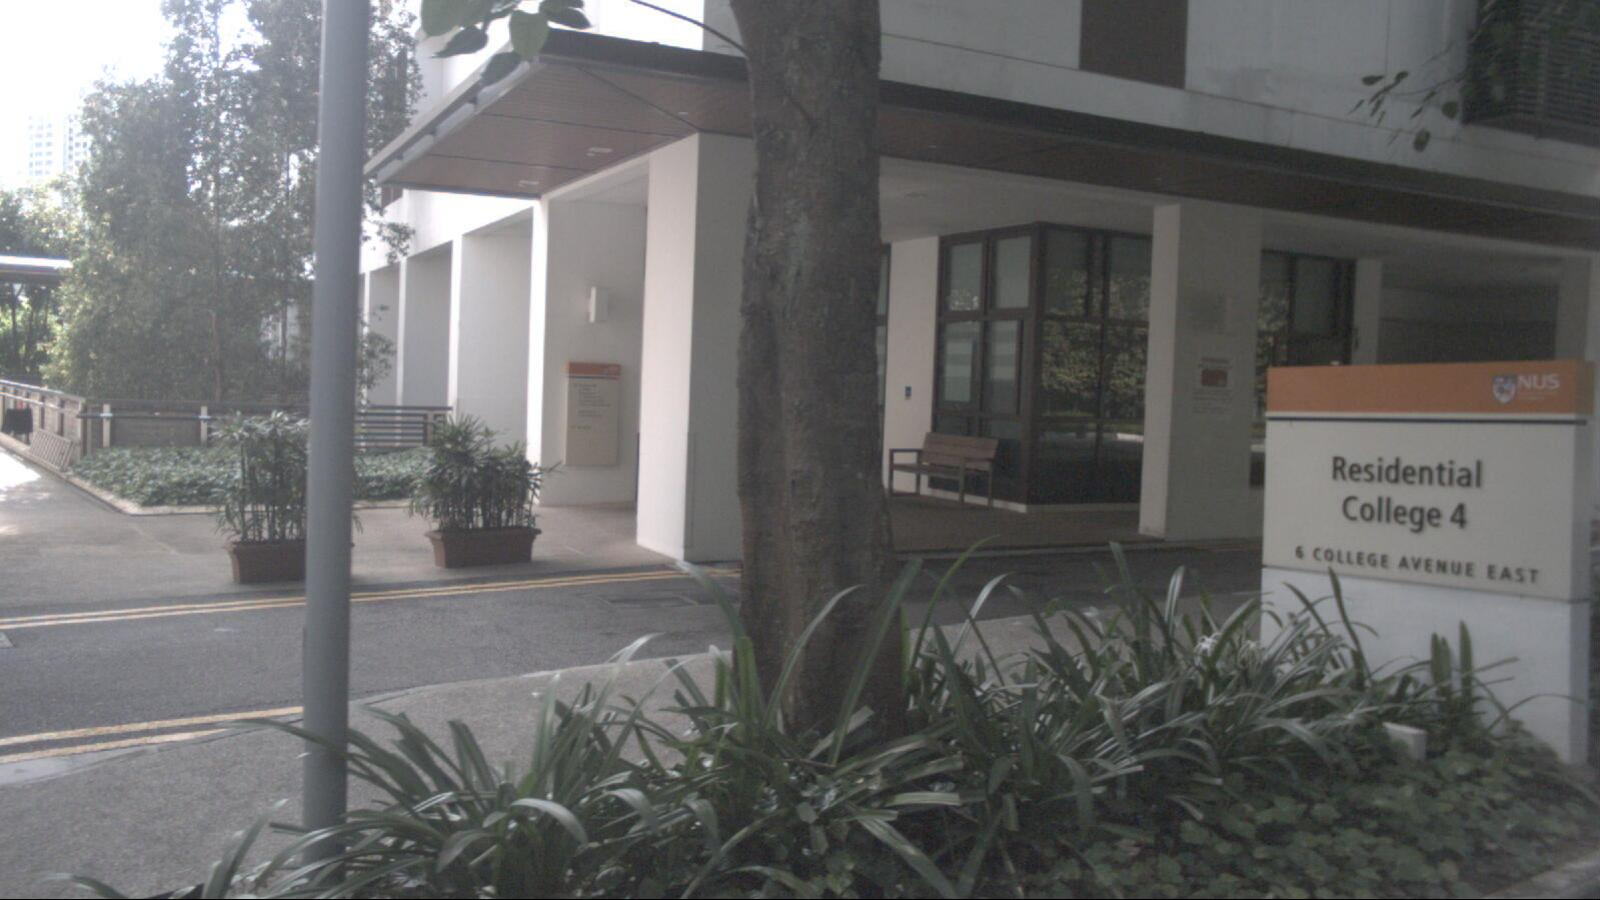human.pedestrian.adult-pedestrian.moving: (23, 354, 37, 390)
